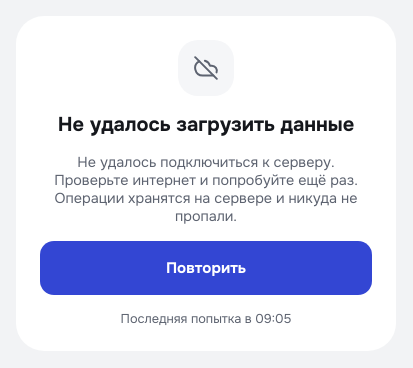
Scenario: App Integration Tests › updates the time of the last attempt when a retry fails again
The width and height of the screenshot is (413, 368).
expect the text "Последняя попытка в 09:05" is shown: met, box 121,310 -> 291,326
Click the button "Повторить".
click(206, 268)  # box 40,240 -> 372,294
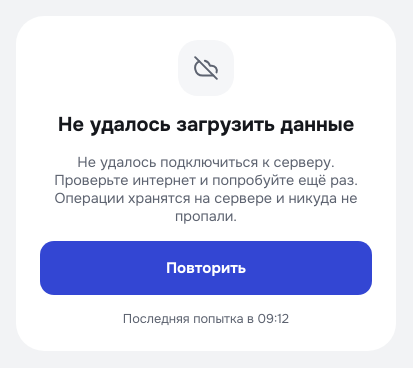
expect the text "Последняя попытка в 09:12" is shown: met, box 123,310 -> 289,326
